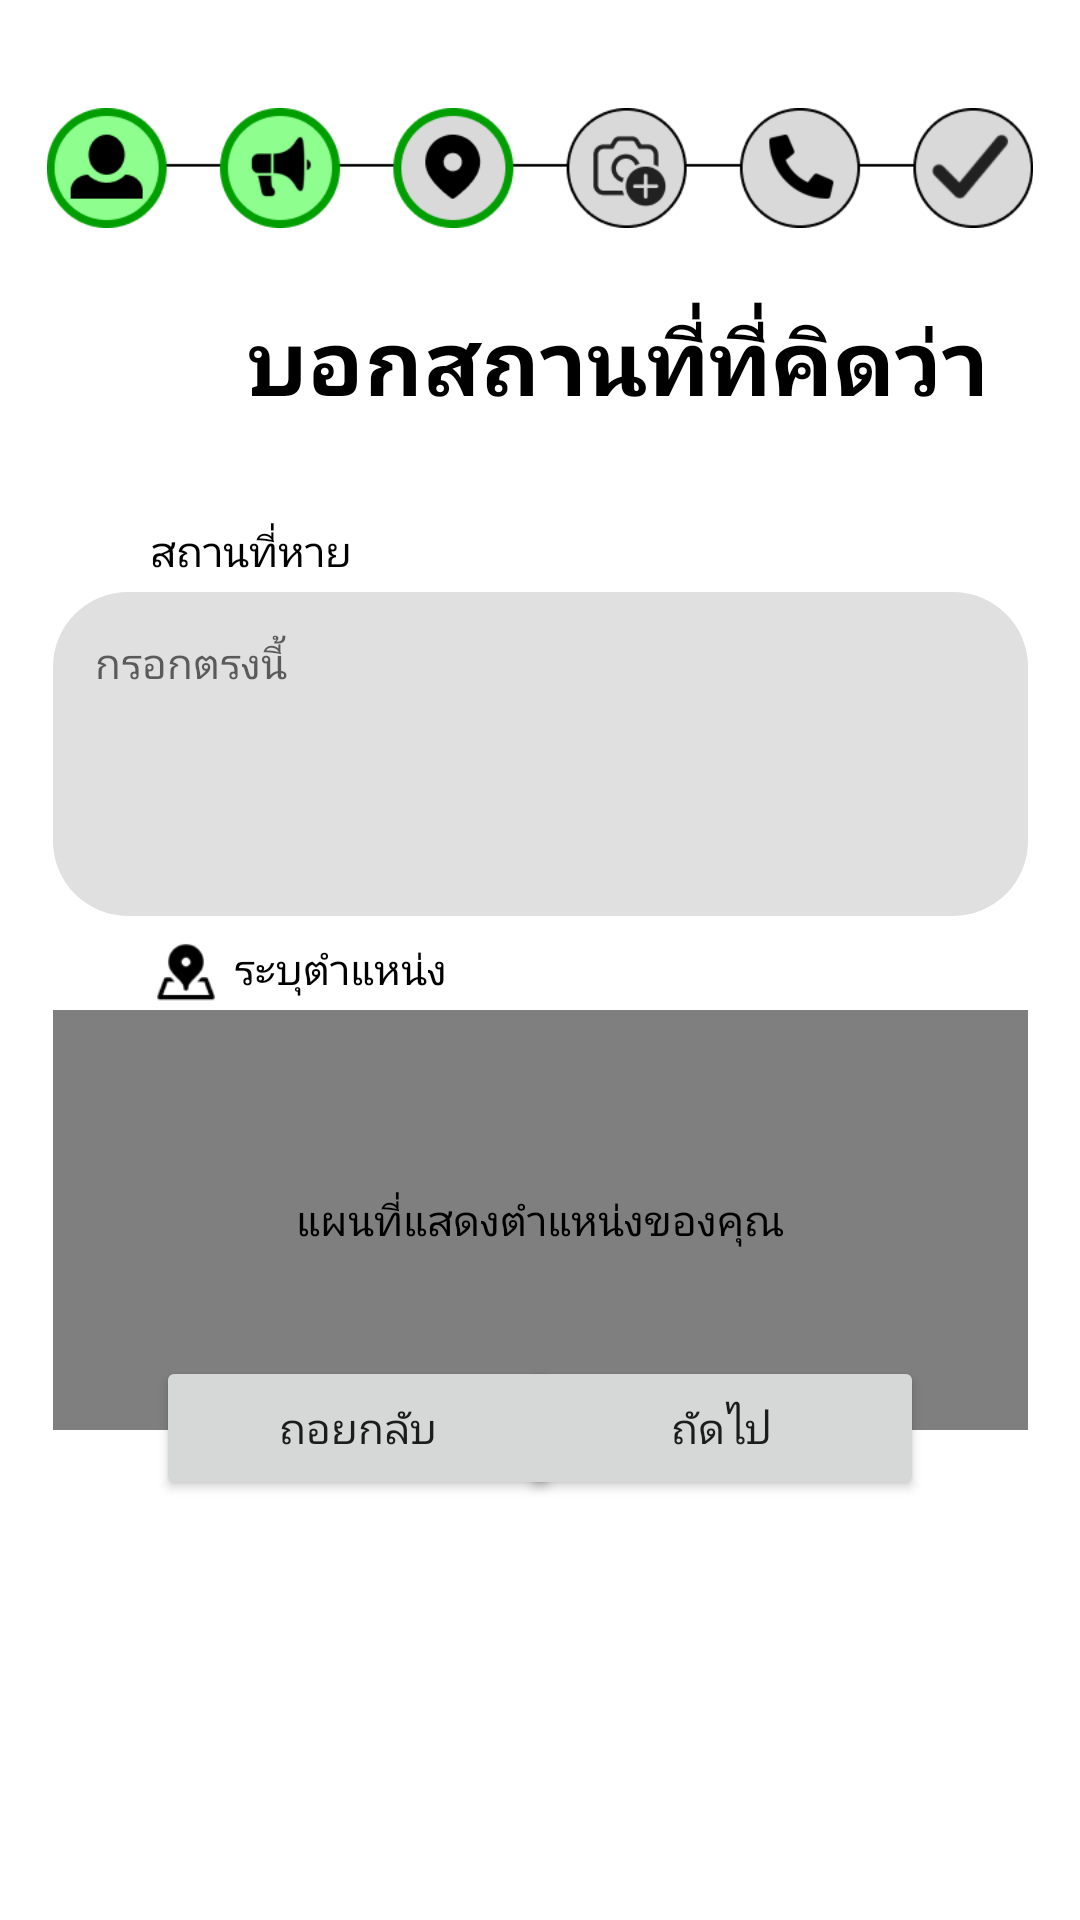

Icon bounding boxes for this 1080×1920 phone screenshot, format [x1,y1,x2,y2]:
map: [157,944,215,1001]
